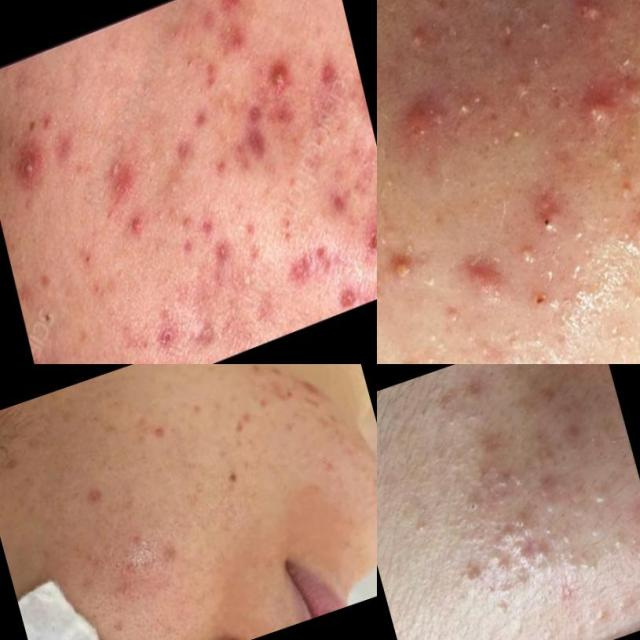acne_scars: (90, 130, 156, 219), (274, 235, 335, 296), (341, 175, 376, 270), (292, 369, 330, 420), (72, 476, 111, 516), (262, 364, 296, 407), (225, 403, 260, 441), (143, 413, 177, 451), (476, 430, 510, 460)
comedone: (390, 6, 442, 74), (434, 293, 479, 346), (491, 104, 535, 154), (487, 507, 537, 550), (464, 326, 514, 364), (114, 548, 148, 588), (450, 84, 481, 126), (452, 489, 486, 525), (612, 275, 640, 318), (527, 7, 557, 43), (382, 344, 436, 364), (184, 469, 214, 504), (534, 480, 558, 520), (557, 552, 592, 578), (508, 538, 533, 571), (585, 482, 611, 512), (156, 570, 180, 601), (173, 46, 197, 75), (536, 518, 559, 544), (489, 596, 512, 622), (488, 467, 510, 493), (592, 602, 612, 624), (568, 502, 588, 524), (612, 533, 626, 553), (497, 557, 511, 576)
papule: (377, 78, 474, 208), (227, 90, 286, 180), (611, 47, 640, 111), (324, 272, 365, 316), (611, 183, 640, 244), (531, 378, 561, 418), (122, 205, 152, 242), (214, 28, 246, 58), (461, 558, 488, 588), (562, 421, 592, 447), (89, 350, 130, 364), (464, 376, 484, 404), (220, 0, 246, 13)
pustule: (559, 65, 628, 150), (377, 226, 433, 308), (514, 173, 575, 244), (499, 220, 551, 284), (258, 48, 302, 98), (571, 0, 609, 34), (8, 151, 41, 190)
sebo-crystan-conglo: (438, 223, 514, 329), (377, 80, 458, 146)
